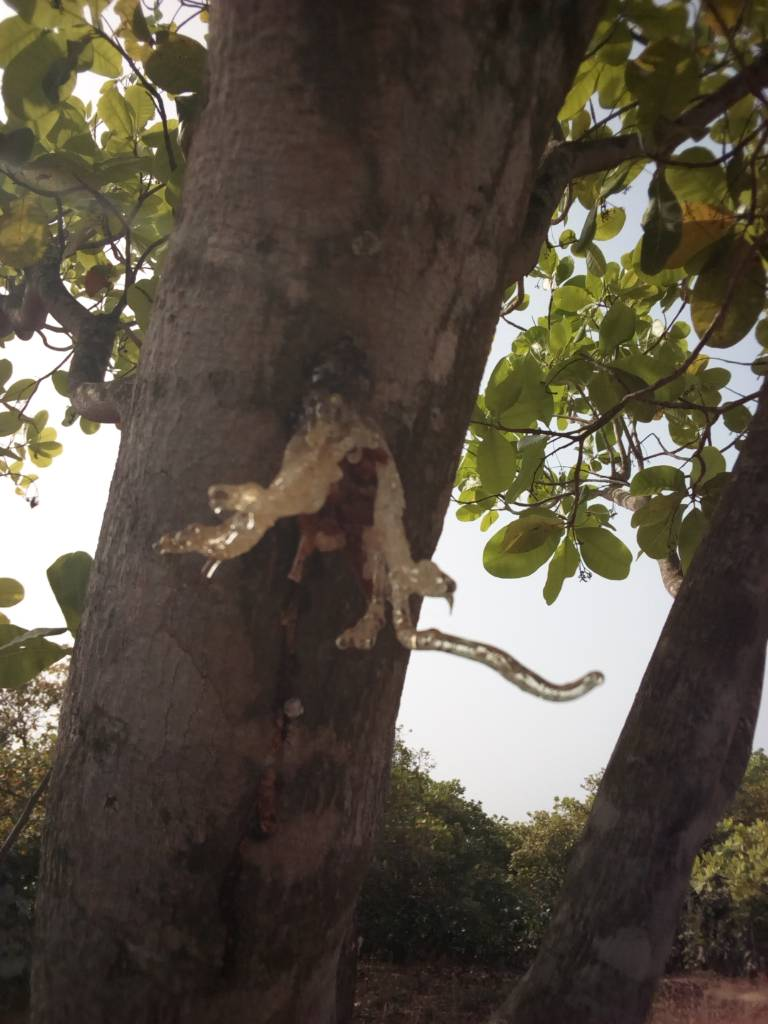Apate terebrans: (122, 367, 643, 761)
